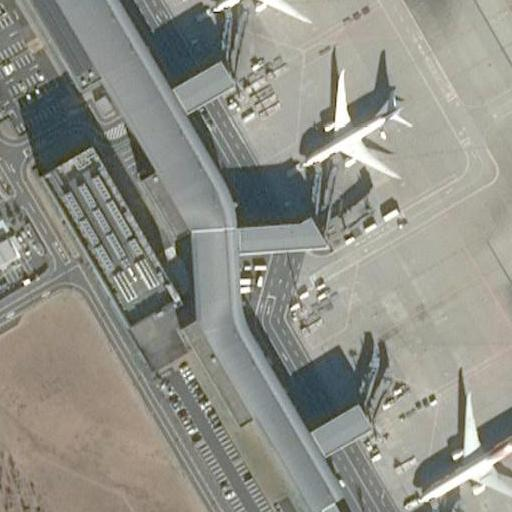Aircraft: (291, 54, 417, 184), (403, 376, 512, 509), (195, 0, 326, 22)
